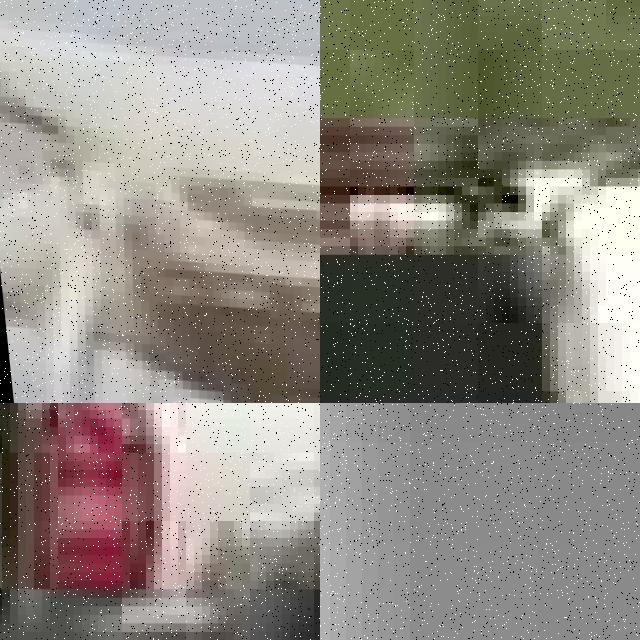drone: (0, 0, 320, 403)
